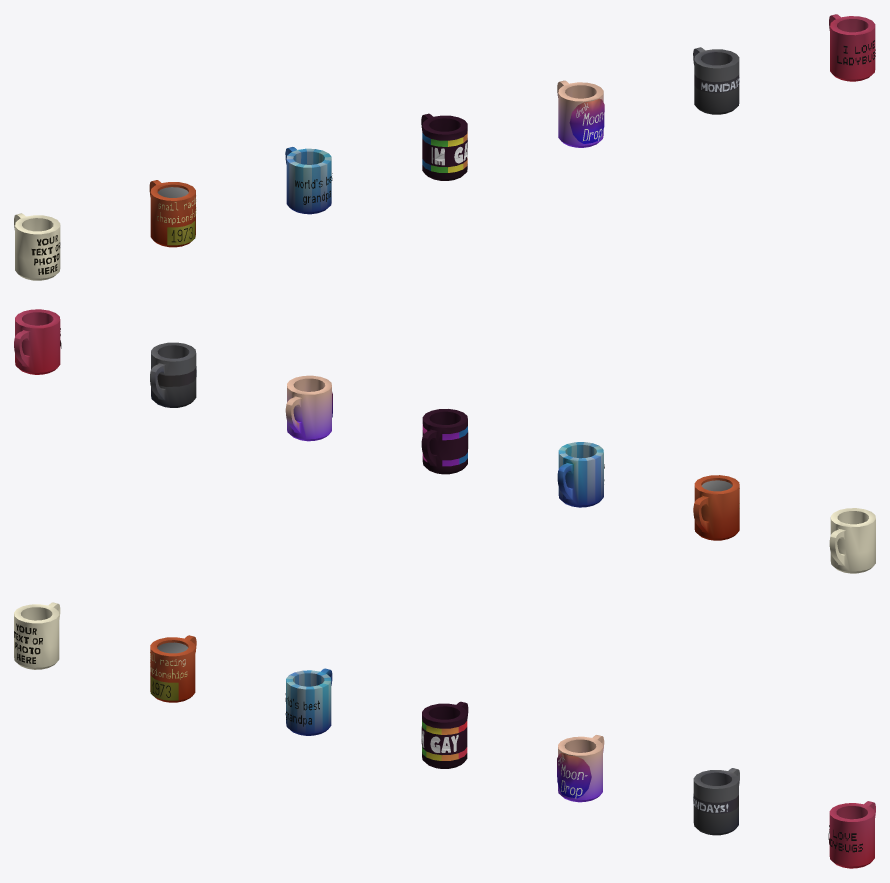
The model's file is Mugs.glb.
3 renders of one model, top to bottom at view 1: azimuth 30°, elevation 25°; view 2: azimuth 150°, elevation 25°; view 3: azimuth 330°, elevation 25°, orthographic.
Parts seen in each view (by area): view 1: Mug_Moon-Drop, Mug_Grandpa, Mug_GAY, Mug_Ladybugs, Mug_Mondays, Mug_YourText, Mug_SnailRacing; view 2: Mug_GAY, Mug_Ladybugs, Mug_Grandpa, Mug_Mondays, Mug_YourText, Mug_Moon-Drop, Mug_SnailRacing; view 3: Mug_GAY, Mug_Ladybugs, Mug_Grandpa, Mug_YourText, Mug_Mondays, Mug_Moon-Drop, Mug_SnailRacing.
Part boxes in pixels (x1,y1,x2,y2): Mug_Moon-Drop: (557,80,604,147); Mug_Grandpa: (285,147,332,214); Mug_GAY: (421,113,467,180); Mug_Ladybugs: (829,14,875,81); Mug_Mondays: (693,47,739,114); Mug_YourText: (14,213,60,280); Mug_SnailRacing: (149,180,196,247); Mug_GAY: (421,409,468,474); Mug_Ladybugs: (14,309,61,374); Mug_Grandpa: (557,442,604,507); Mug_Mondays: (150,342,196,407); Mug_YourText: (829,508,875,573); Mug_Moon-Drop: (285,375,332,441); Mug_SnailRacing: (693,475,739,540); Mug_GAY: (421,701,468,768); Mug_Ladybugs: (828,801,875,868); Mug_Grandpa: (285,668,332,735); Mug_YourText: (14,602,60,669); Mug_Mondays: (693,768,739,835); Mug_Moon-Drop: (557,735,604,802); Mug_SnailRacing: (150,635,196,702).
Size of the model in its own units: 6.29 by 0.3445 by 0.4194.
8 materials, 1 textured.
